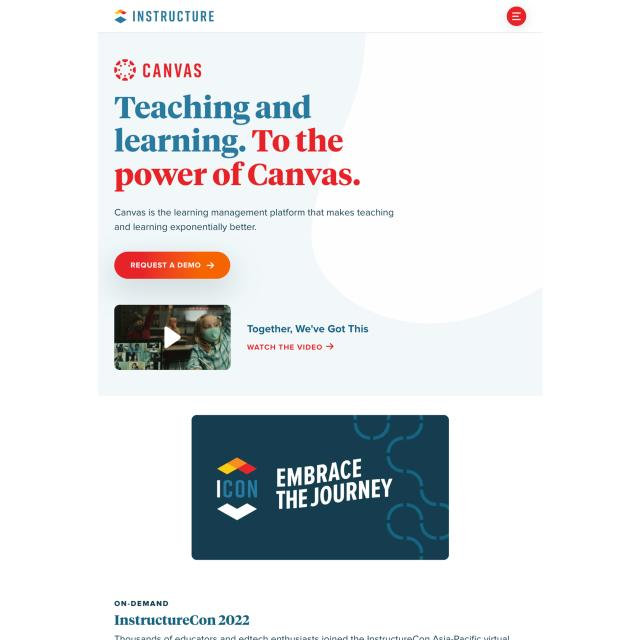logo: (107, 4, 221, 27)
navigation: (506, 4, 527, 27)
